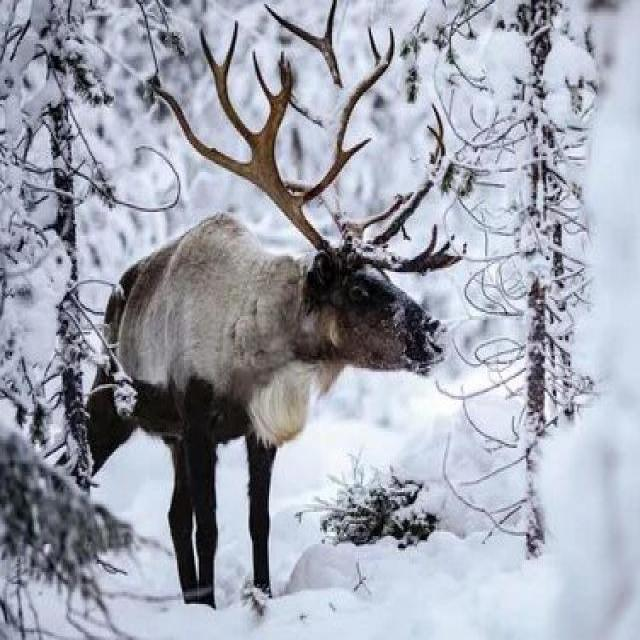deer: (34, 73, 488, 599)
